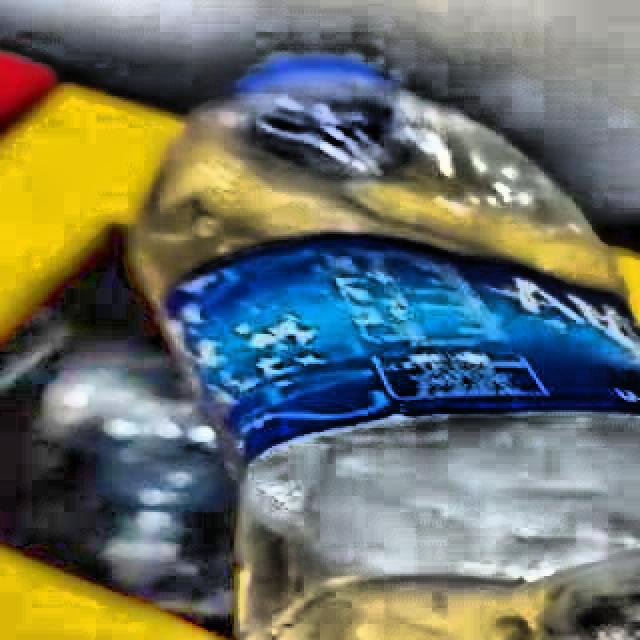plastic: (131, 59, 640, 640)
